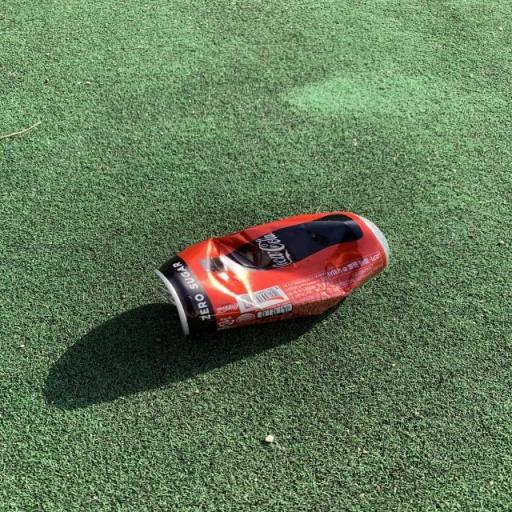metal: (122, 190, 412, 354)
